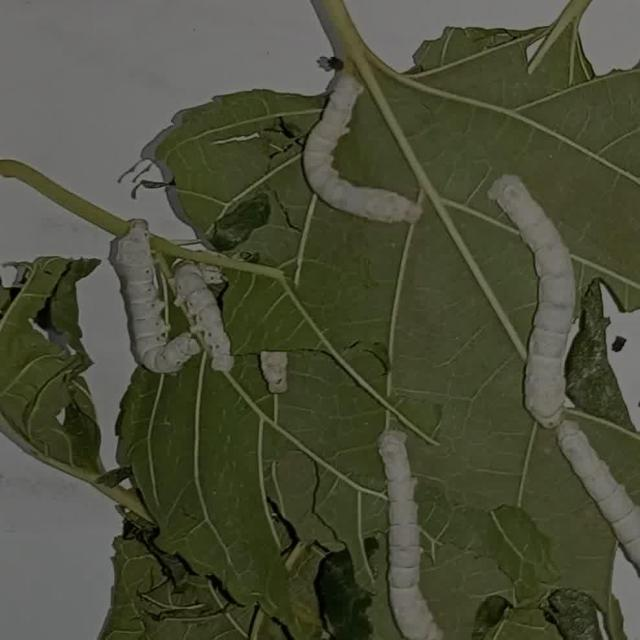Healthy: (470, 167, 604, 433), (355, 422, 469, 640), (296, 67, 436, 237), (98, 204, 201, 388)
